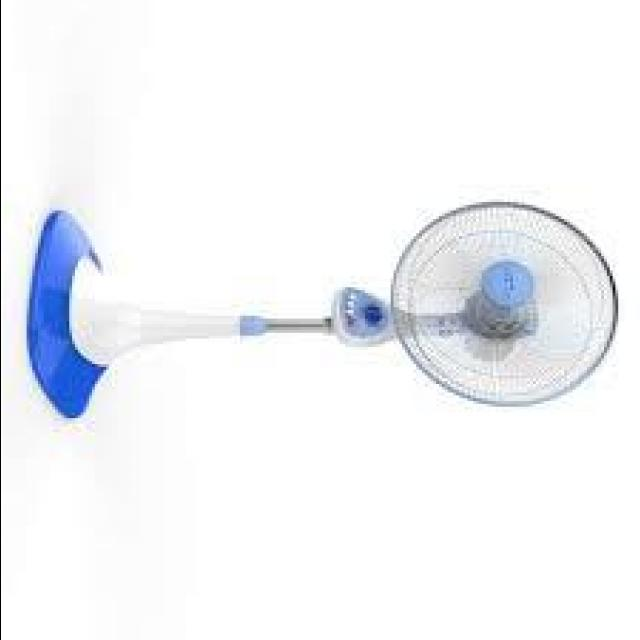fan: (29, 196, 625, 440)
